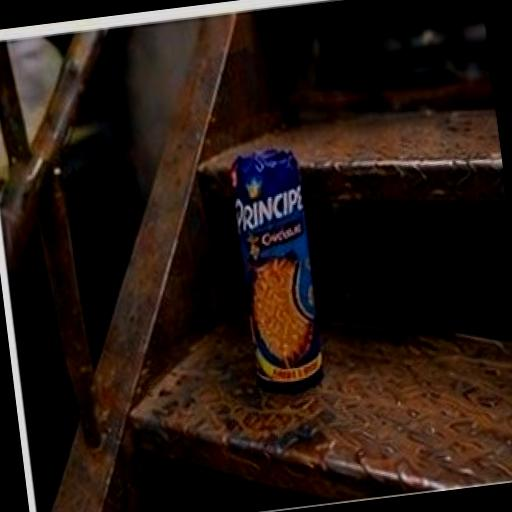prince: (176, 90, 394, 493)
